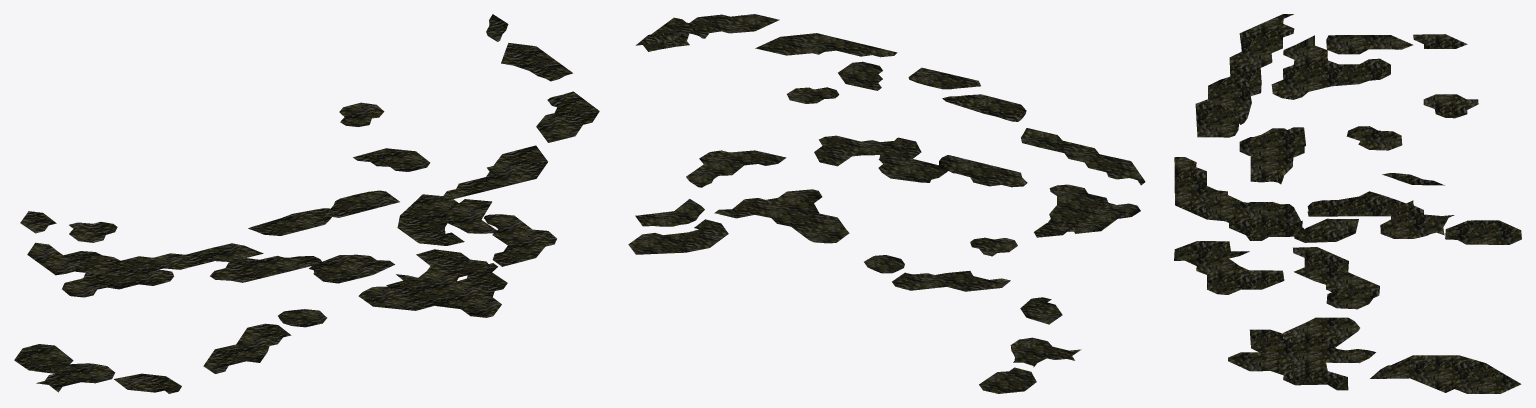
The model's file is CH09_SMAUG_PLAYSURFACE_OBJECT01.fbx.
3 renders of one model, left to right at view 1: azimuth 30°, elevation 25°; view 2: azimuth 150°, elevation 25°; view 3: azimuth 270°, elevation 25°, orthographic. The views are drawn at different scales.
Visible parts, largest first — view 1: CH09_SMAUG_PLAYSURFACE_OBJECT01; view 2: CH09_SMAUG_PLAYSURFACE_OBJECT01; view 3: CH09_SMAUG_PLAYSURFACE_OBJECT01.
Part boxes in pixels (left/top/right/bottom): CH09_SMAUG_PLAYSURFACE_OBJECT01: left=14, top=14, right=599, bottom=393; CH09_SMAUG_PLAYSURFACE_OBJECT01: left=628, top=14, right=1145, bottom=393; CH09_SMAUG_PLAYSURFACE_OBJECT01: left=1174, top=14, right=1521, bottom=393.
Bounding box in the file's own units: 568985 × 272556 × 304024.
Materials: 1 (1 with a texture image).
